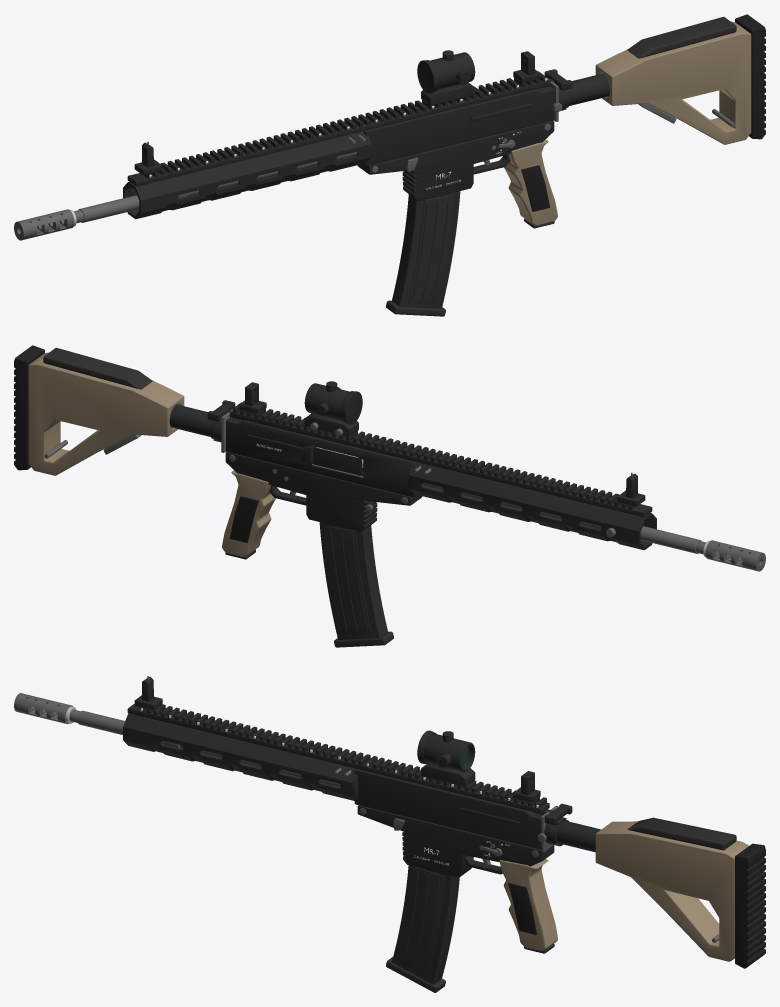
File: rifle.glb
3 renders of one model, top to bottom at view 1: azimuth 30°, elevation 25°; view 2: azimuth 150°, elevation 25°; view 3: azimuth 330°, elevation 25°, orthographic.
Parts seen in each view (by area): view 1: MR7_Anodized, MR7_PolymerFDE, MR7_Polymer, MR7_Steel, MR7_Rubber; view 2: MR7_Anodized, MR7_PolymerFDE, MR7_Polymer, MR7_Steel, MR7_Rubber; view 3: MR7_Anodized, MR7_PolymerFDE, MR7_Polymer, MR7_Rubber, MR7_Steel.
Boxes of the visible parts, x1=… form: MR7_Anodized: x1=123, y1=50, x2=610, y2=219; MR7_PolymerFDE: x1=504, y1=21, x2=751, y2=225; MR7_Polymer: x1=386, y1=16, x2=736, y2=316; MR7_Steel: x1=14, y1=78, x2=735, y2=240; MR7_Rubber: x1=521, y1=14, x2=765, y2=211; MR7_Anodized: x1=169, y1=381, x2=656, y2=550; MR7_PolymerFDE: x1=28, y1=352, x2=275, y2=556; MR7_Polymer: x1=43, y1=347, x2=393, y2=647; MR7_Steel: x1=44, y1=409, x2=765, y2=571; MR7_Rubber: x1=14, y1=345, x2=258, y2=542; MR7_Anodized: x1=123, y1=676, x2=600, y2=877; MR7_PolymerFDE: x1=499, y1=821, x2=748, y2=961; MR7_Polymer: x1=386, y1=817, x2=736, y2=992; MR7_Rubber: x1=508, y1=843, x2=765, y2=968; MR7_Steel: x1=14, y1=676, x2=719, y2=942.
Bounding box in the file's own units: 1.05 × 0.3502 × 0.0572.
